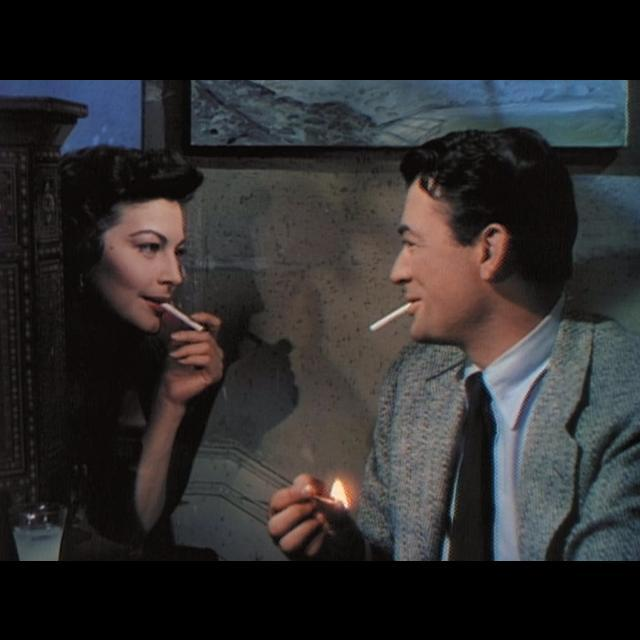rokok: (360, 295, 408, 335), (159, 294, 203, 334)
